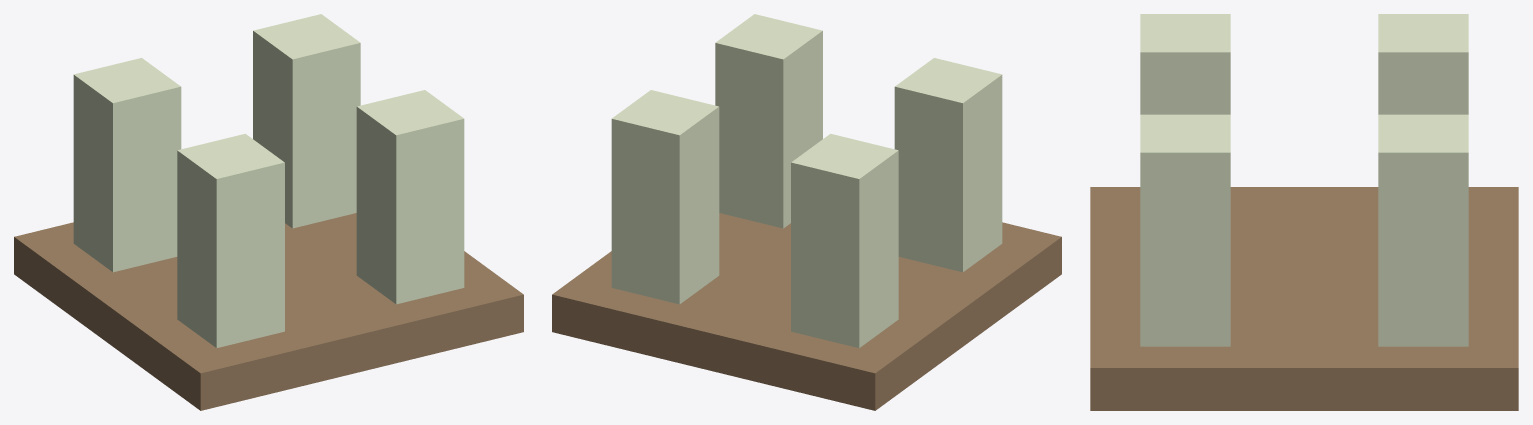
Rendered from Prop_DS_Crop_Spudlet_S3_V3.glb.
The picture shows the model from 3 angles, left to right: view 1: azimuth 30°, elevation 25°; view 2: azimuth 150°, elevation 25°; view 3: azimuth 270°, elevation 25°; orthographic projection. The views are drawn at different scales.
Visible parts, largest first — view 1: Cube, Cube.003, Cube.001, Cube.002, Cube.004; view 2: Cube, Cube.004, Cube.002, Cube.001, Cube.003; view 3: Cube, Cube.003, Cube.004, Cube.001, Cube.002.
Part boxes in pixels (x1,y1,x2,y2): Cube: (14,213,523,410); Cube.003: (356,90,464,304); Cube.001: (177,133,284,348); Cube.002: (73,58,181,272); Cube.004: (253,14,360,228); Cube: (552,213,1061,410); Cube.004: (611,90,719,304); Cube.002: (791,133,898,348); Cube.001: (894,58,1002,272); Cube.003: (715,14,822,228); Cube: (1090,187,1518,410); Cube.003: (1140,114,1230,346); Cube.004: (1378,114,1468,346); Cube.001: (1140,14,1230,114); Cube.002: (1378,14,1468,114).
Size of the model in its own units: 0.9 by 0.55 by 0.9.
